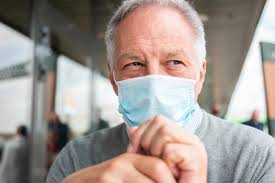FaceMask: (116, 74, 196, 114)
